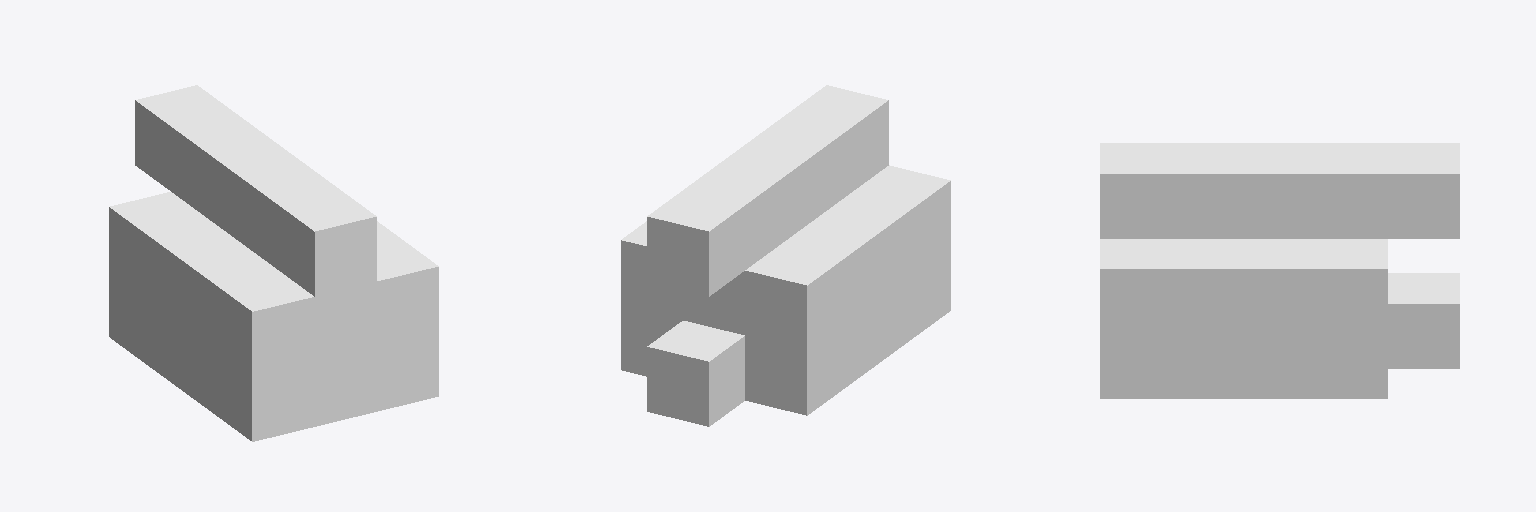
File: apt-expresso-maker.obj
3 views of the same model, side by side, from view 1: azimuth 30°, elevation 25°; view 2: azimuth 150°, elevation 25°; view 3: azimuth 270°, elevation 25° (orthographic).
Parts seen in each view (by area): view 1: apt:expresso-maker; view 2: apt:expresso-maker; view 3: apt:expresso-maker.
Boxes of the visible parts, x1,y1,x2,y2 form: apt:expresso-maker: [109, 85, 438, 441]; apt:expresso-maker: [621, 85, 950, 426]; apt:expresso-maker: [1100, 143, 1459, 398].
Size of the model in its own units: 3 by 3 by 5.